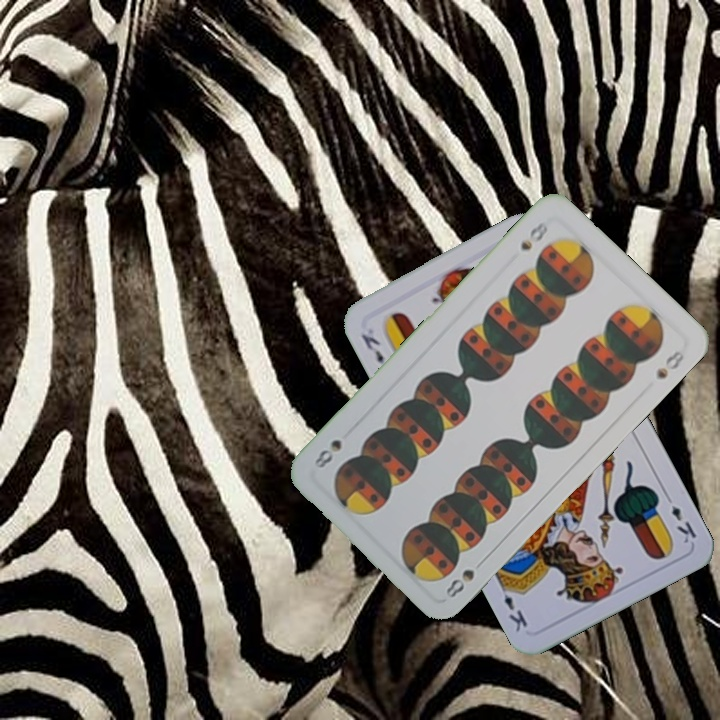EK: (660, 489, 699, 546), (357, 329, 387, 367)
S8: (441, 554, 489, 601), (516, 217, 550, 254)
